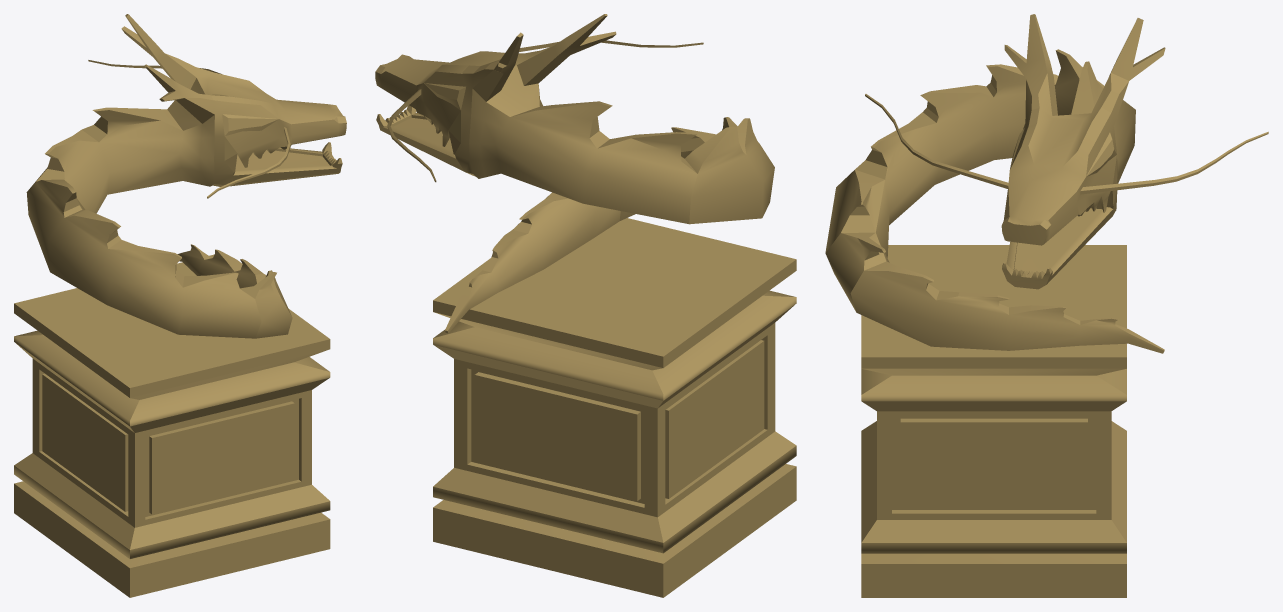
The model's file is Dragonstatue.fbx.
The picture shows the model from 3 angles, left to right: view 1: azimuth 30°, elevation 25°; view 2: azimuth 150°, elevation 25°; view 3: azimuth 270°, elevation 25°; orthographic projection. The views are drawn at different scales.
Parts seen in each view (by area): view 1: Staty_platå_OBJ2:pCube1, pCube1; view 2: Staty_platå_OBJ2:pCube1, pCube1; view 3: Staty_platå_OBJ2:pCube1, pCube1.
Part boxes in pixels (x1,y1,x2,y2): Staty_platå_OBJ2:pCube1: (14,254,330,597); pCube1: (26,14,346,338); Staty_platå_OBJ2:pCube1: (433,218,796,597); pCube1: (375,14,774,333); Staty_platå_OBJ2:pCube1: (861,245,1126,597); pCube1: (825,14,1268,353).
Size of the model in its own units: 5.72 by 8.17 by 6.14.
